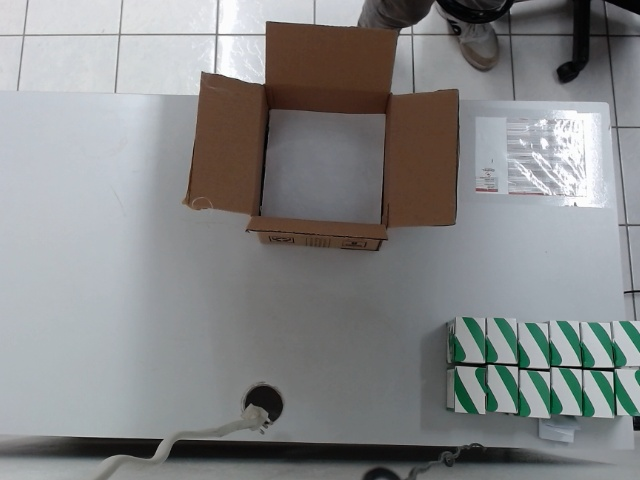caixa_principal: (183, 19, 462, 252)
